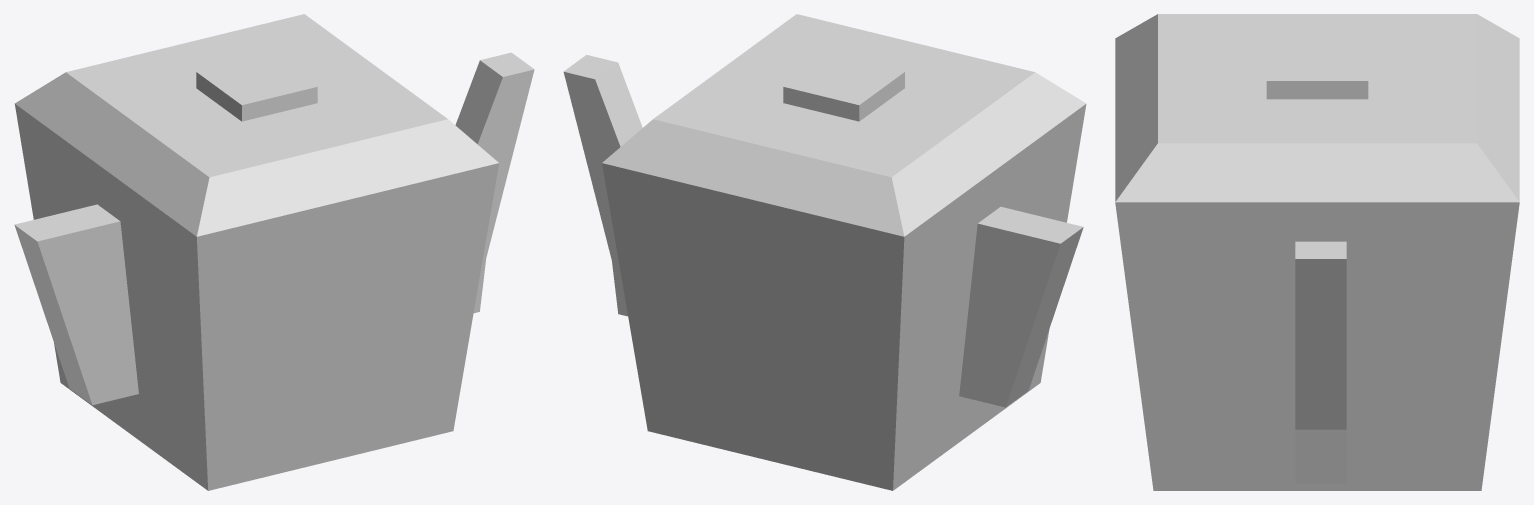
File: f_lounge_cup_teapot.fbx
3 views of the same model, side by side, from view 1: azimuth 30°, elevation 25°; view 2: azimuth 150°, elevation 25°; view 3: azimuth 270°, elevation 25° (orthographic). The views are drawn at different scales.
Visible parts, largest first — view 1: teapot_body, teapot_neck1, teapot_neck; view 2: teapot_body, teapot_neck1, teapot_neck; view 3: teapot_body, teapot_neck.
Boxes of the visible parts, x1=… form: teapot_body: x1=14, y1=14, x2=499, y2=490; teapot_neck1: x1=14, y1=204, x2=138, y2=405; teapot_neck: x1=455, y1=52, x2=534, y2=313; teapot_body: x1=602, y1=14, x2=1086, y2=490; teapot_neck1: x1=959, y1=207, x2=1083, y2=407; teapot_neck: x1=563, y1=54, x2=642, y2=316; teapot_body: x1=1115, y1=14, x2=1519, y2=490; teapot_neck: x1=1295, y1=241, x2=1346, y2=483.
Size of the model in its own units: 31.5 by 19.84 by 19.99.
1 material, 1 textured.
